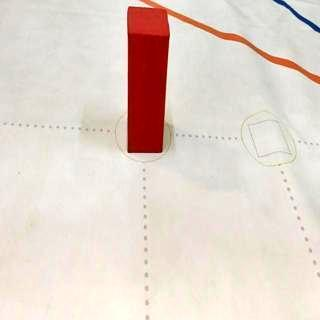redbox: (126, 5, 170, 154)
